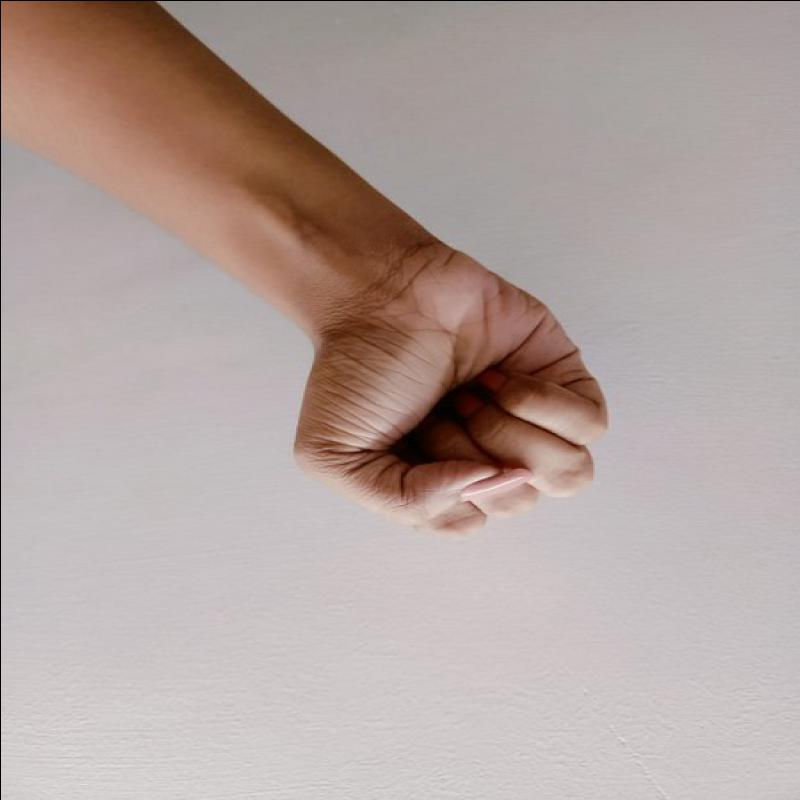Mushti: (259, 262, 637, 544)
